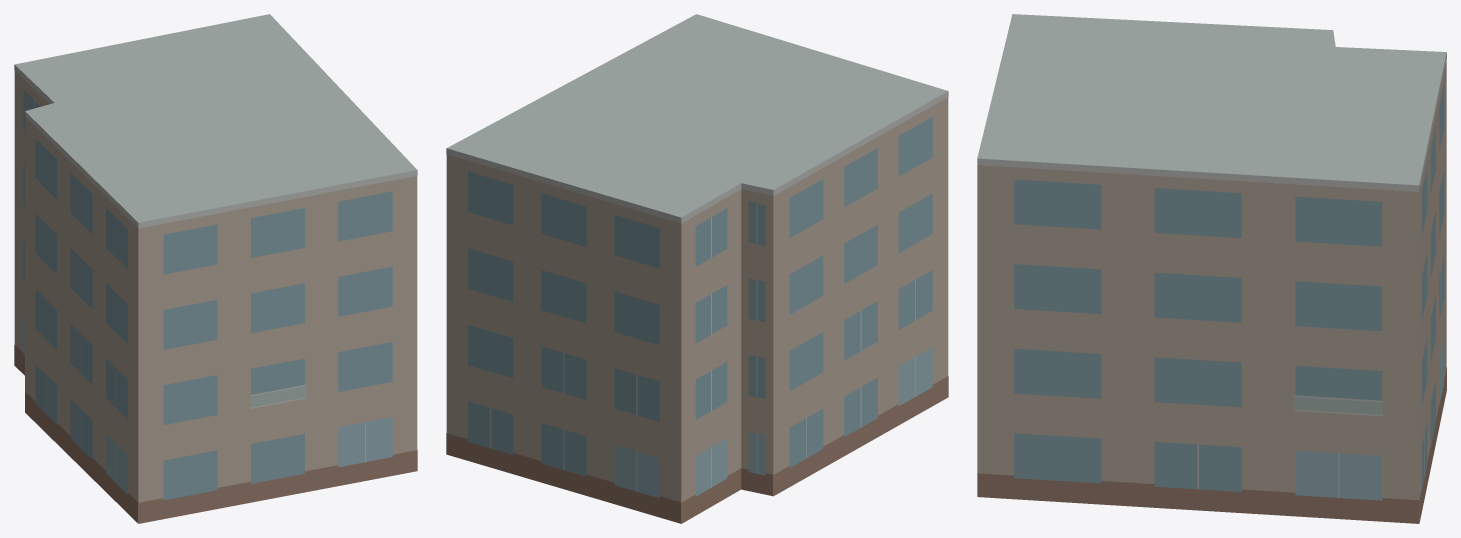
File: survey-upis-32763741.glb
3 views of the same model, side by side, from view 1: azimuth 30°, elevation 25°; view 2: azimuth 150°, elevation 25°; view 3: azimuth 270°, elevation 25° (orthographic). The views are drawn at different scales.
Visible parts, largest first — view 1: survey-upis-32763741.tmp; view 2: survey-upis-32763741.tmp; view 3: survey-upis-32763741.tmp.
Part boxes in pixels (x1,y1,x2,y2): survey-upis-32763741.tmp: (14, 14, 417, 523); survey-upis-32763741.tmp: (446, 14, 948, 523); survey-upis-32763741.tmp: (977, 14, 1446, 523).
Bounding box in the file's own units: 13.64 × 12.55 × 15.79.
